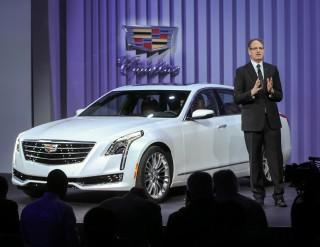cadillac: (117, 18, 181, 55), (41, 140, 63, 158)
